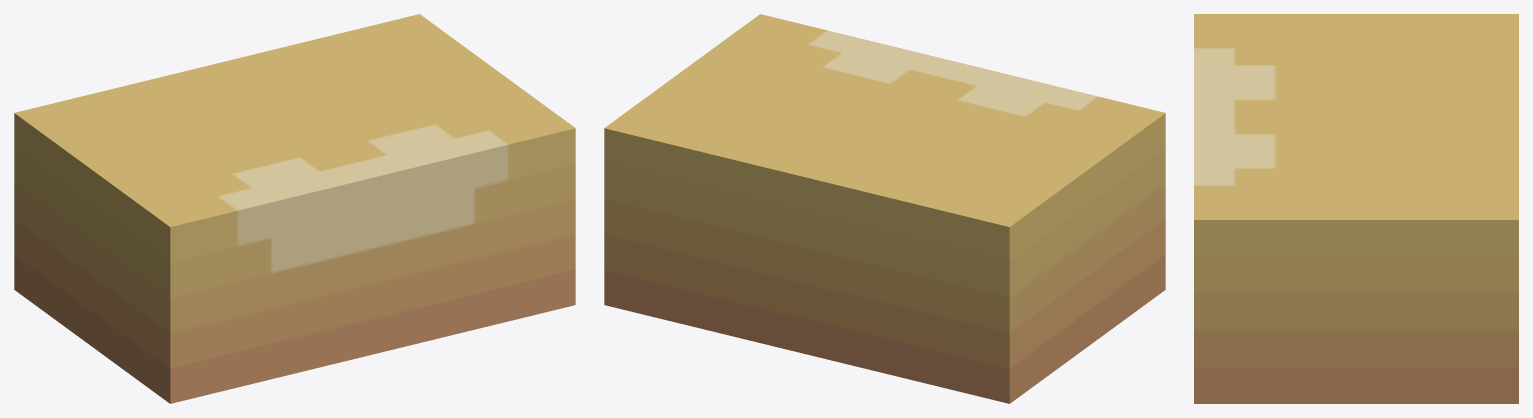
3 views of the same model, side by side, from view 1: azimuth 30°, elevation 25°; view 2: azimuth 150°, elevation 25°; view 3: azimuth 270°, elevation 25° (orthographic). The views are drawn at different scales.
Parts seen in each view (by area): view 1: Root075; view 2: Root075; view 3: Root075.
Boxes of the visible parts, x1,y1,x2,y2 form: Root075: (14,14,575,403); Root075: (604,14,1165,403); Root075: (1194,14,1518,403).
Bounding box in the file's own units: 12 × 5 × 8.
